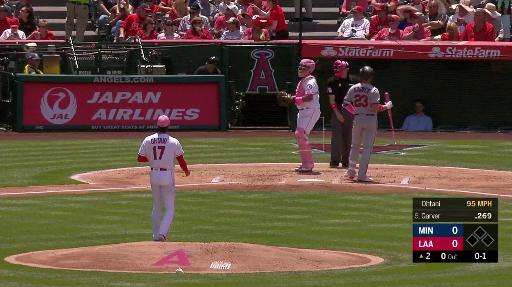pitcher: (136, 115, 192, 242)
